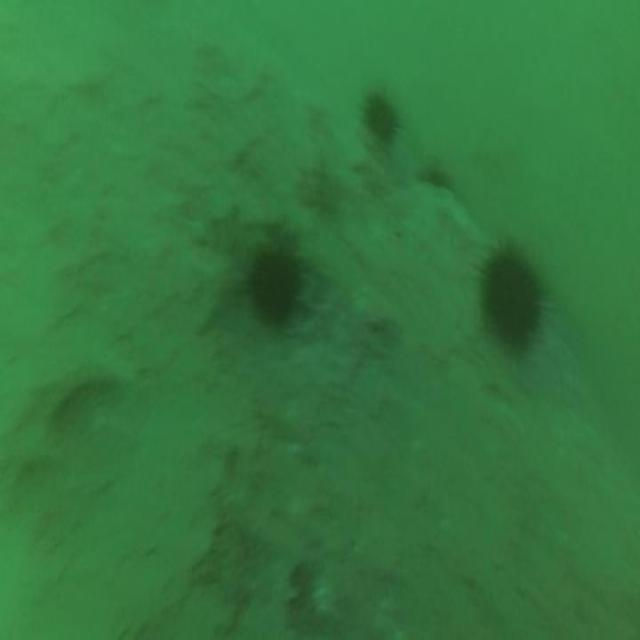echinus: (470, 226, 552, 363), (238, 223, 310, 341), (356, 77, 406, 152)
